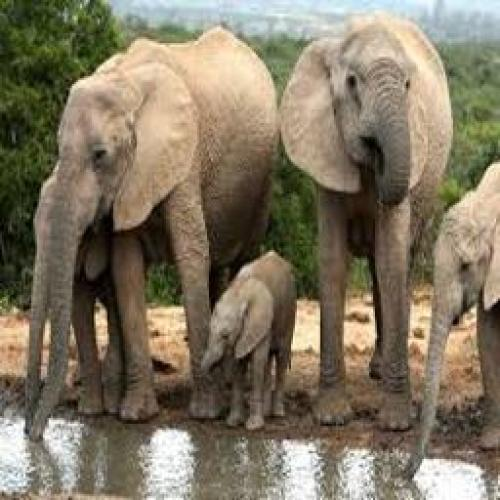african_elephant-endangered: (32, 29, 278, 426), (278, 13, 454, 431), (406, 146, 500, 486), (200, 248, 298, 430)
